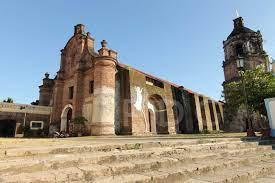santa_maria_church_santa_maria_ilocos_sur: (37, 20, 117, 138)
unfinished_paint: (80, 85, 119, 129)
